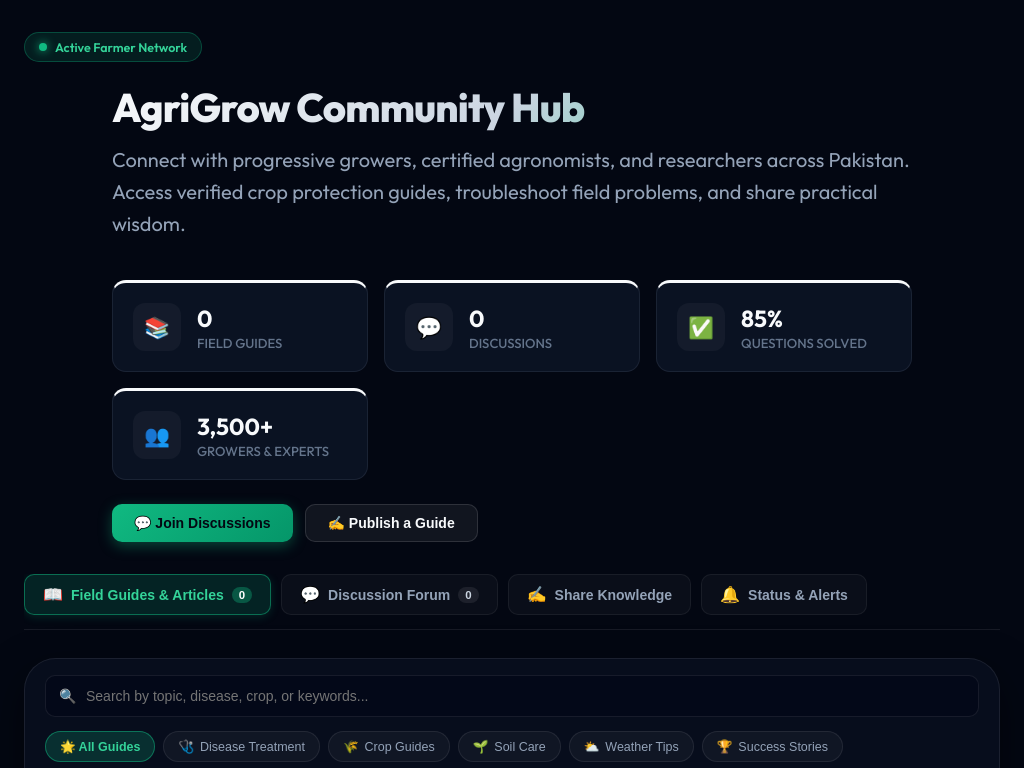
Scenario: Community Hub › switches to Discussion Forum tab and displays interactive threads
Click the button "💬 Discussion Forum 0".
click(389, 594)  # box [281, 574, 498, 615]
(page scrolled)
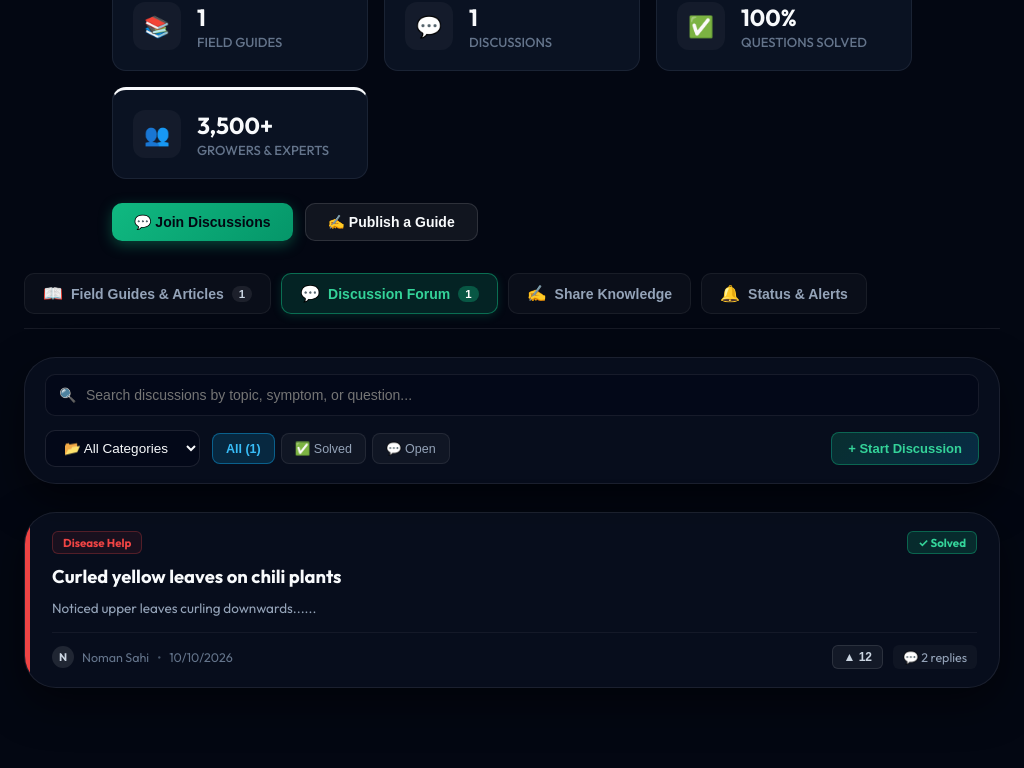
Now the heading "Curled yellow leaves on chili plants" is shown, box [52, 565, 342, 588]
Now the text "✓ Solved" is shown, box [907, 531, 977, 554]
